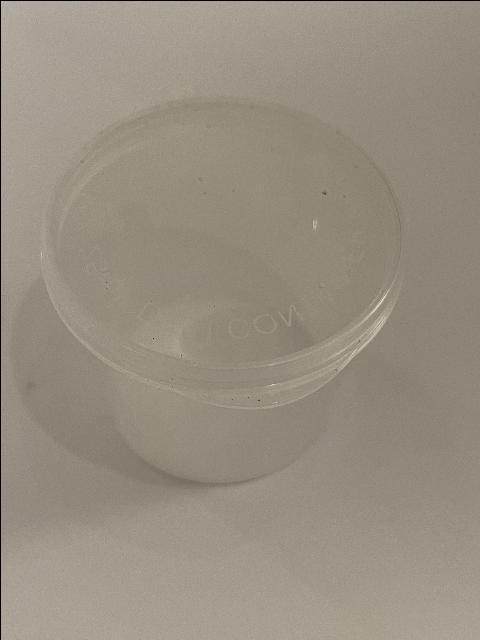plasticcontainer: (37, 95, 409, 487)
